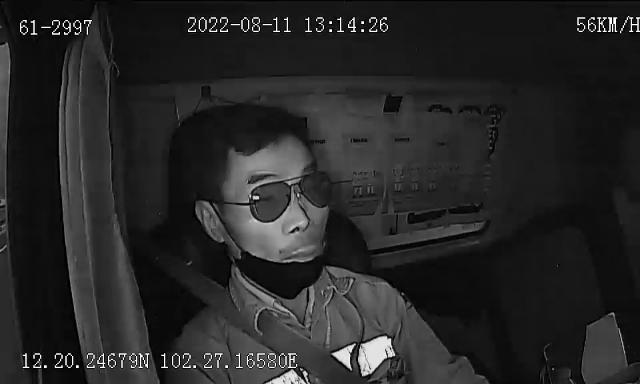SafeDriving: (418, 96, 460, 120)
Seatbelt: (179, 264, 371, 384)
